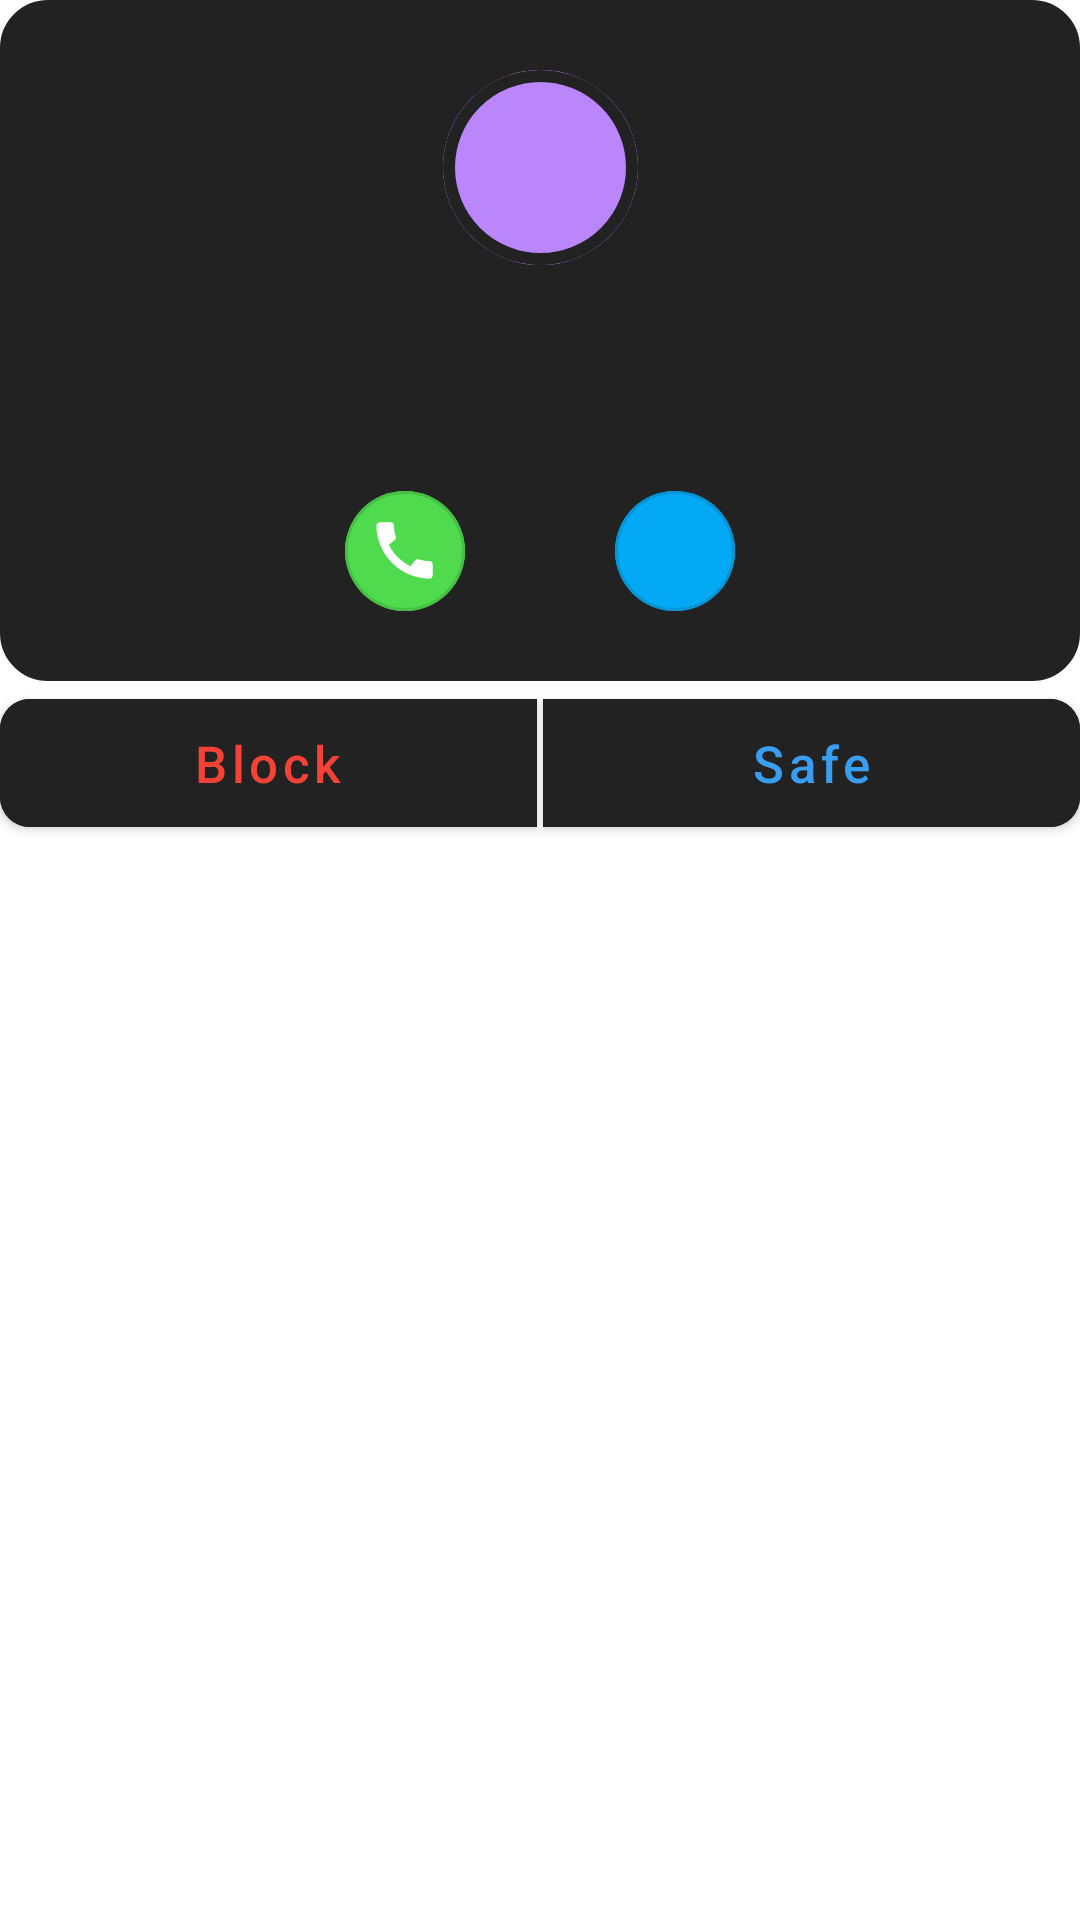

Icon click points for this 1080 x 1920 phone screenshot, format (x=x, y=y):
call: (x=405, y=551)
